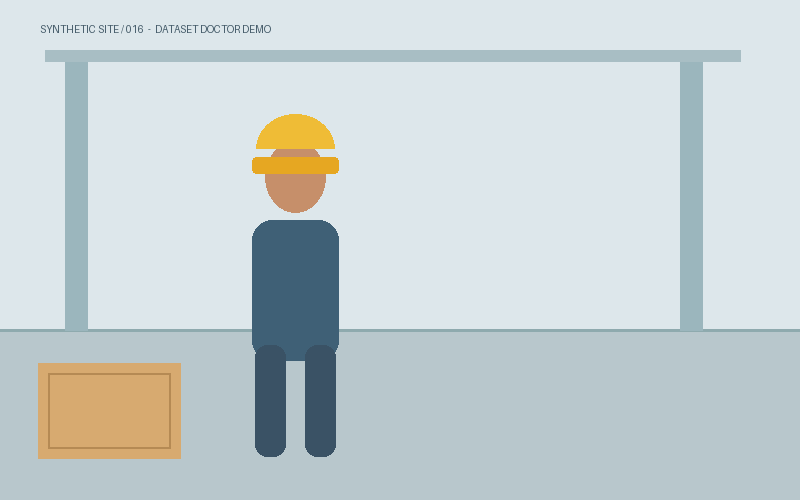Safety-Helmet: (252, 127, 338, 173)
